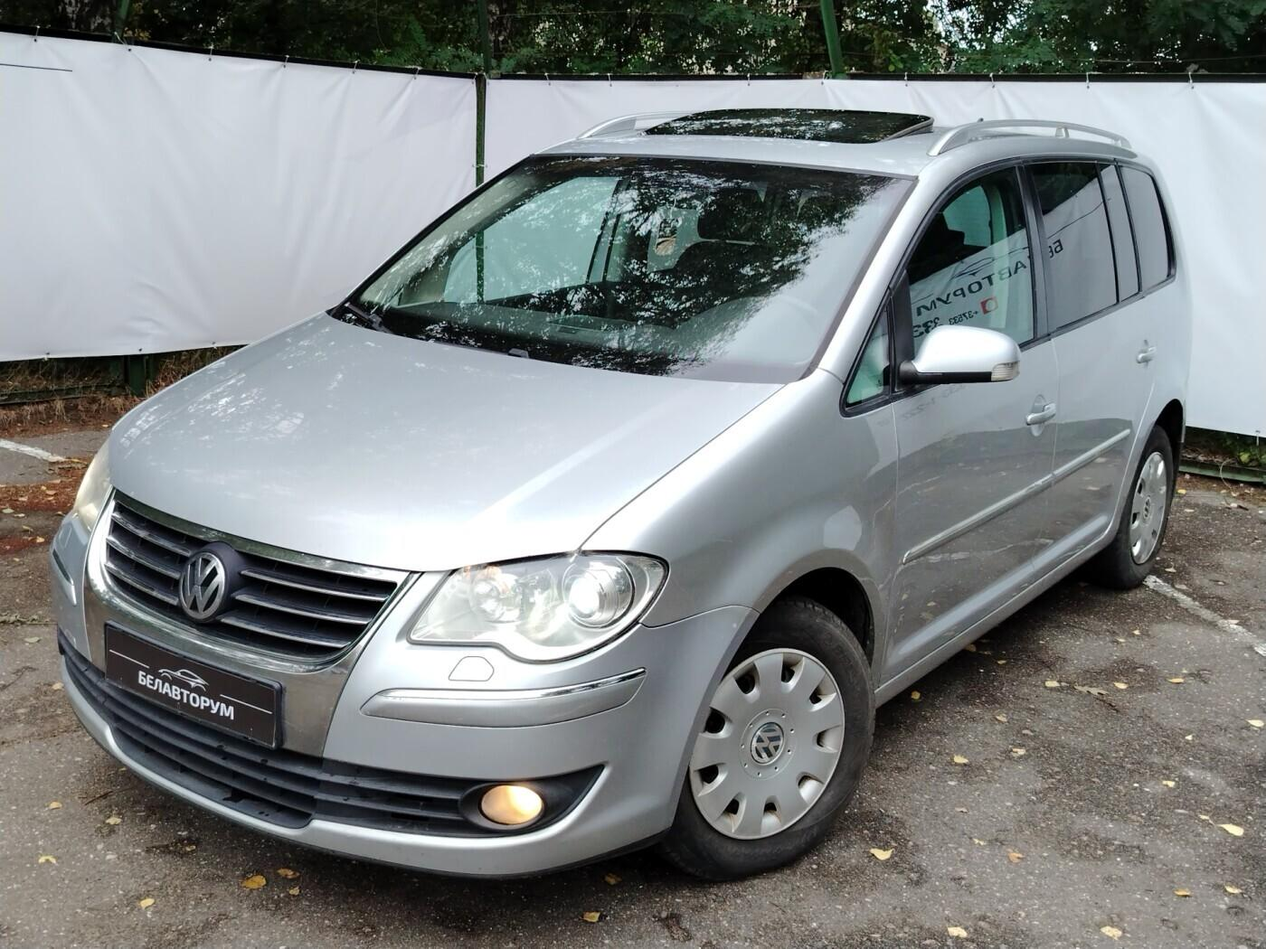Touran_2006-2010: (37, 107, 1199, 886)
